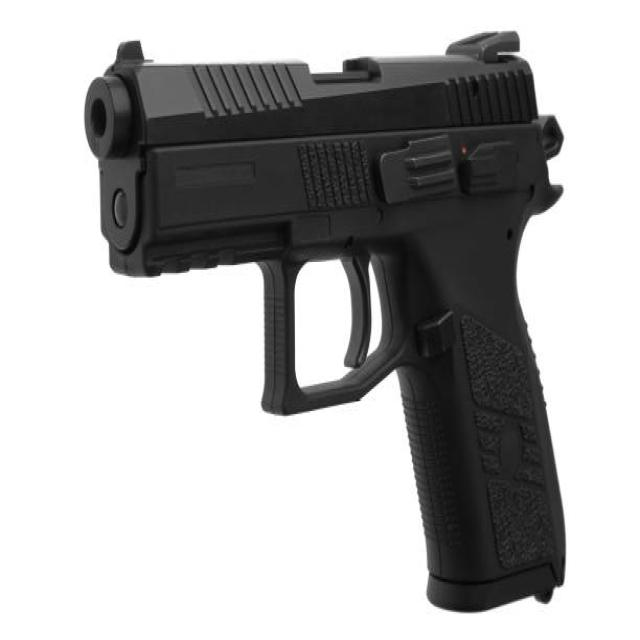pistol: (78, 26, 575, 621)
